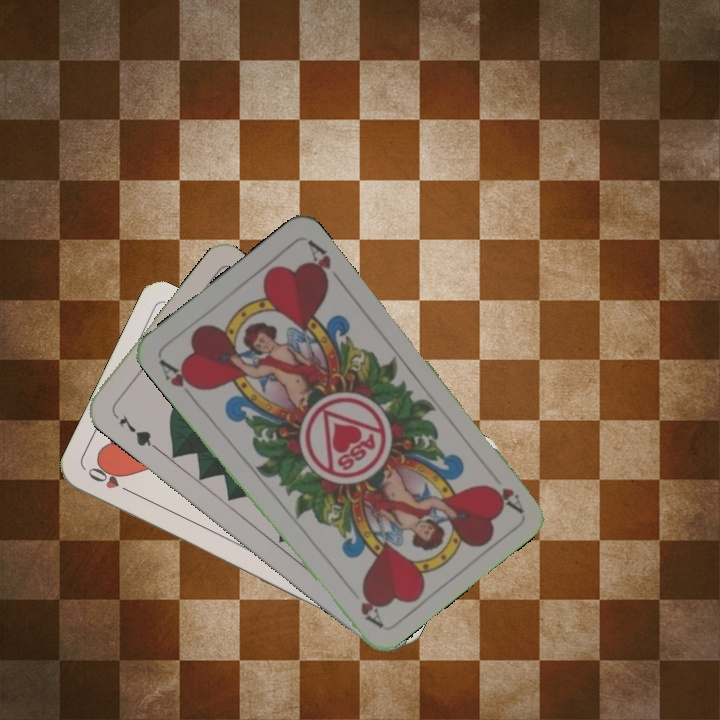G7: (115, 411, 159, 451)
HA: (154, 354, 203, 404), (483, 480, 526, 515)
HO: (83, 463, 138, 498)
